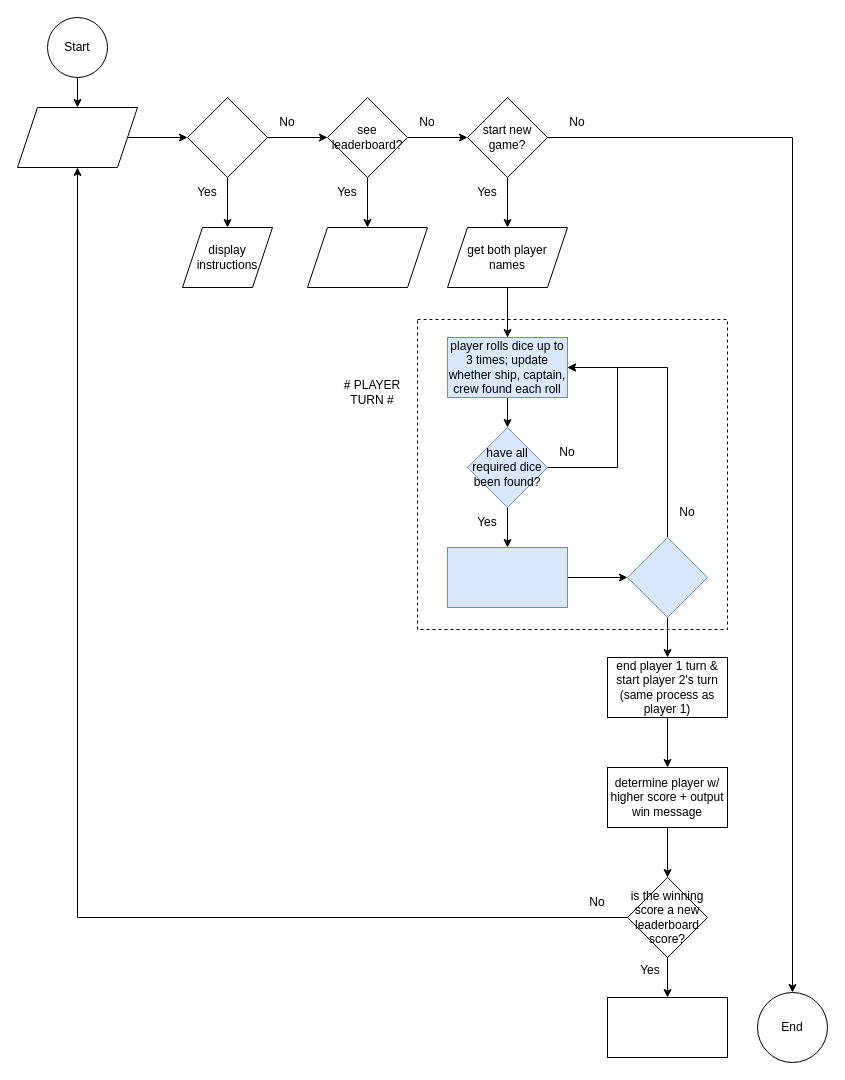
Image size: 845x1080. Some labels were removed from this diagram. Here are the shapes that lost their labels. From the top down, the centre of each, then its label:
the point at 77,137: get what user wants to do based on displayed menu
the point at 227,137: see instructions?
the point at 367,257: retrieve leaderboard and display top 3 scores
the point at 507,577: calculate gold
the point at 667,577: does user want to keep this gold?
the point at 667,1027: update leaderboard
